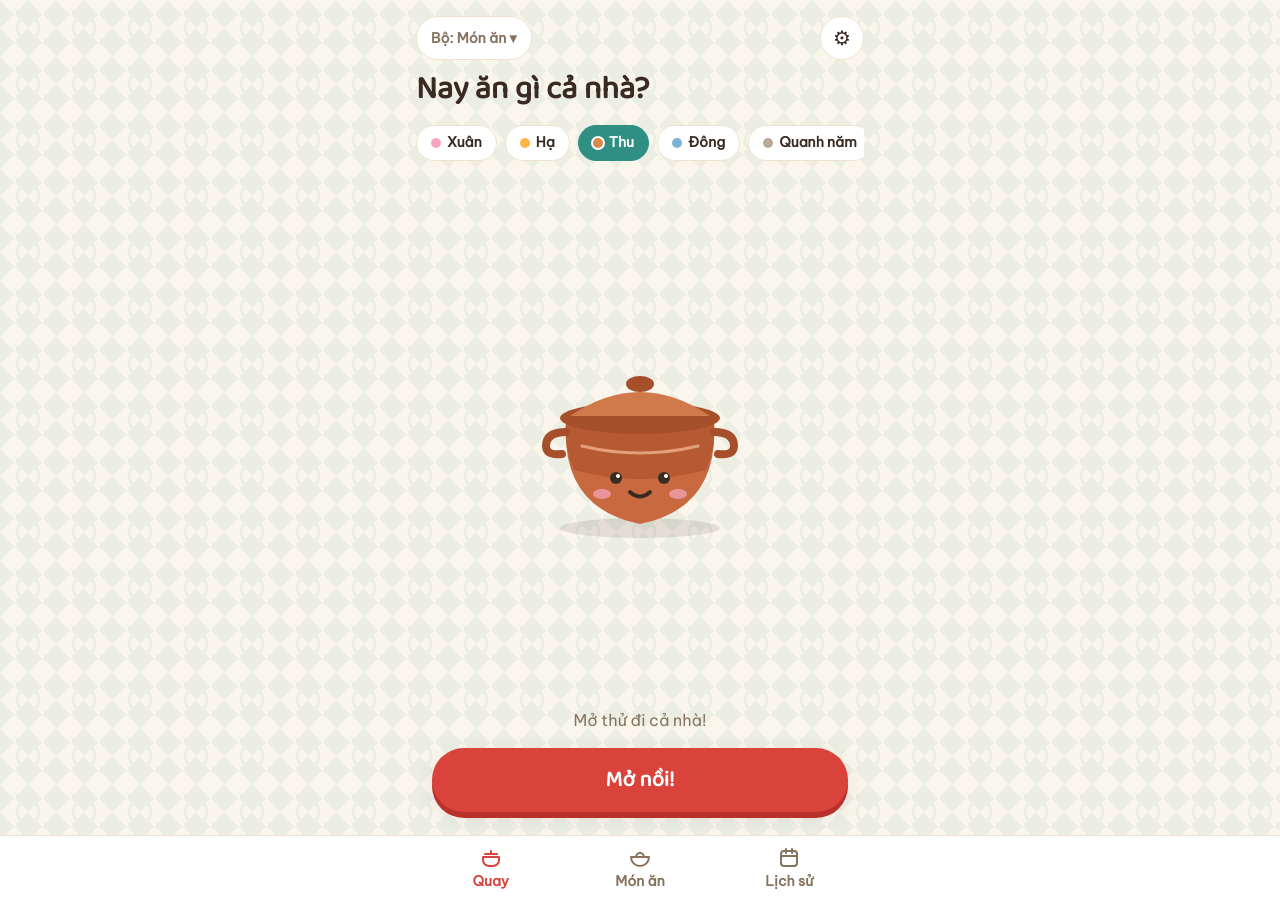
TabBar › chạm tab thì đổi màn và tab active
Click the link "Món ăn": (640, 868) x1=615 y1=846 x2=665 y2=890
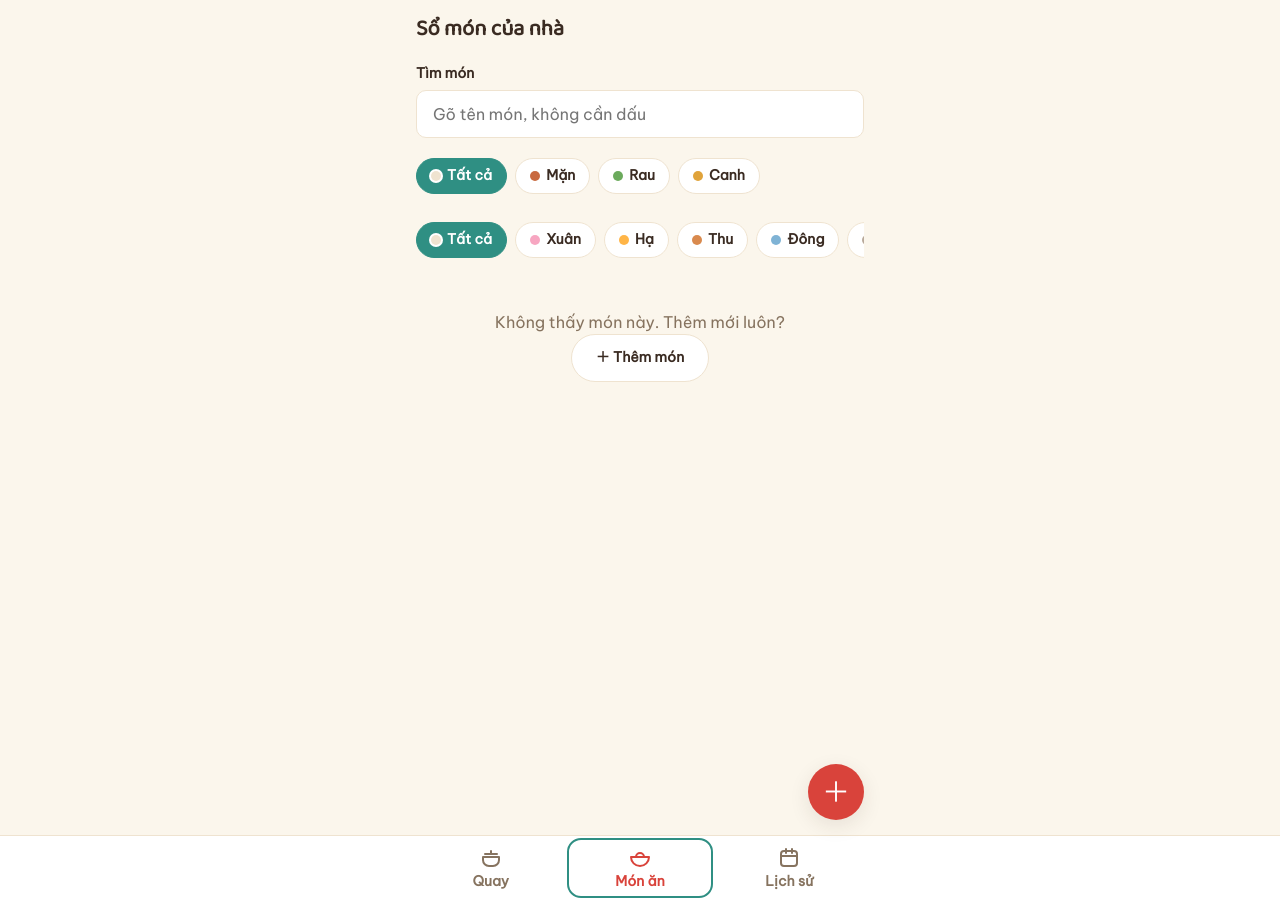
Expected: the heading "Sổ món của nhà" is shown, x1=416 y1=11 x2=564 y2=47
Click the link "Lịch sử": (789, 868) x1=765 y1=846 x2=813 y2=890
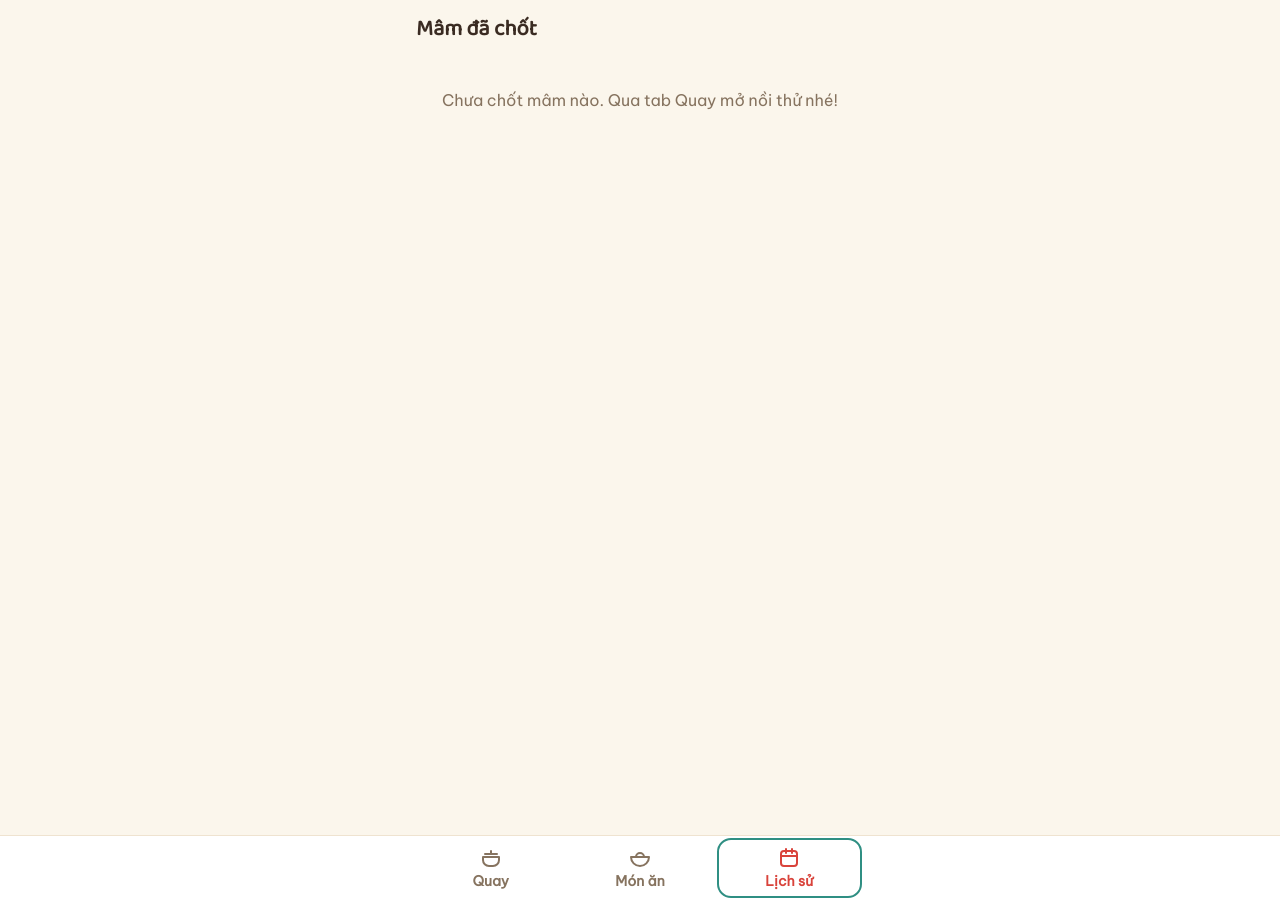
Expected: the heading "Mâm đã chốt" is shown, x1=416 y1=11 x2=537 y2=47
